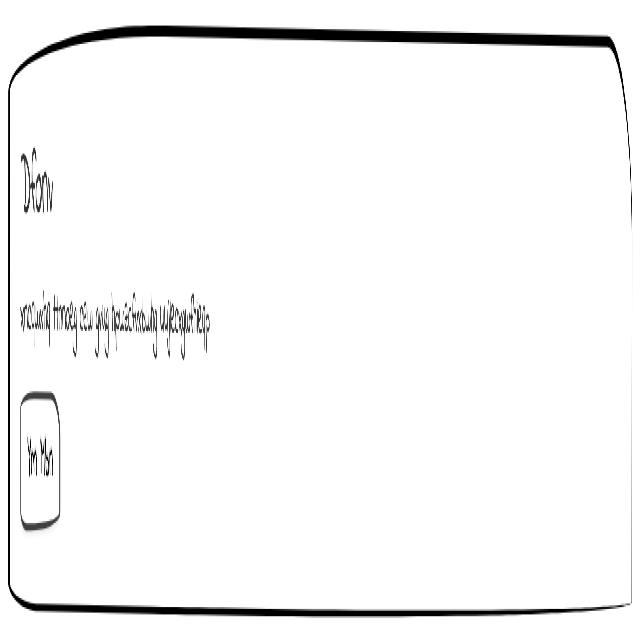Button: (19, 387, 62, 543)
Heading 6: (19, 110, 65, 270)
Paragraph: (18, 280, 244, 383)
